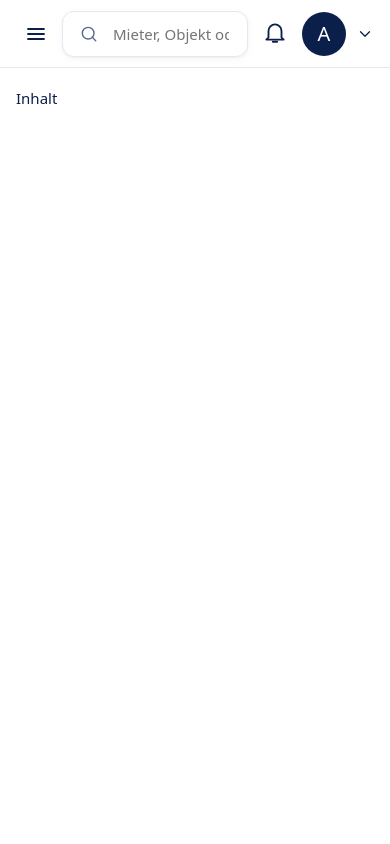
it: Dashboard: Popups und keine Demo-Leiste › Navigation als Drawer: Menüschaltfläche mit aria-expanded, Escape schließt
Click the button named "Navigation" at point(36, 34), box left=16, top=14, right=56, bottom=54
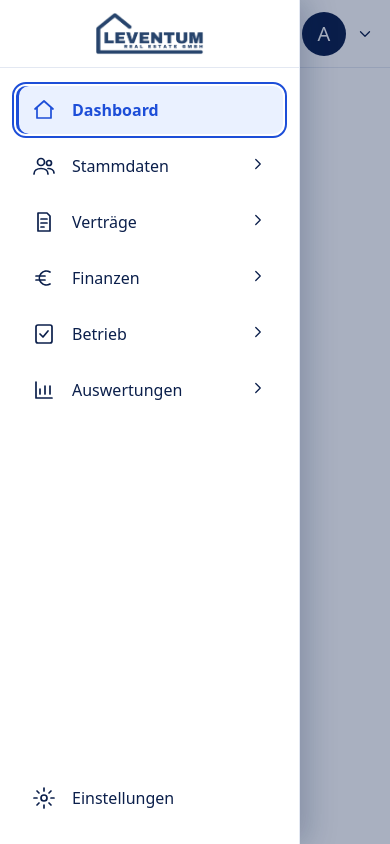
Press Escape
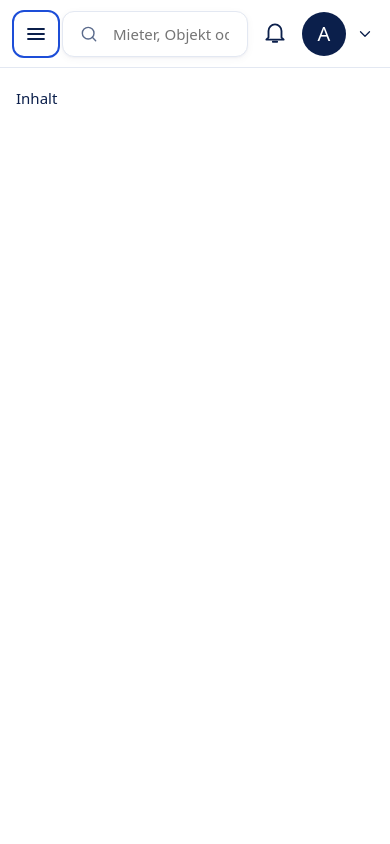
Result: the button named "Navigation" is collapsed at left=16, top=14, right=56, bottom=54
